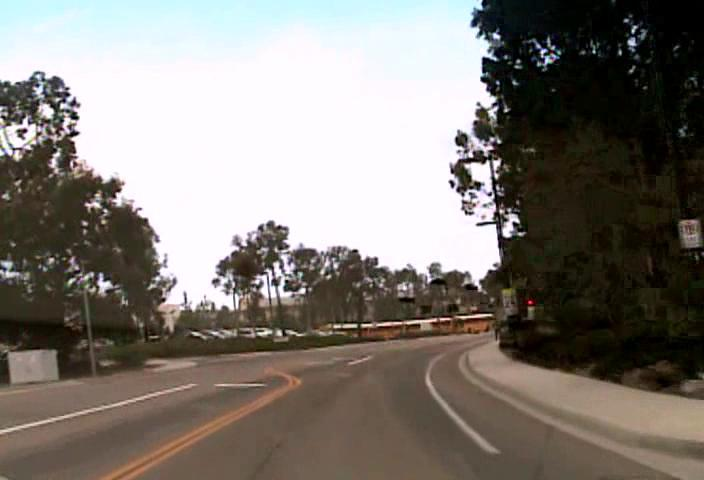schoolSpeedLimit25: (501, 287, 518, 316)
